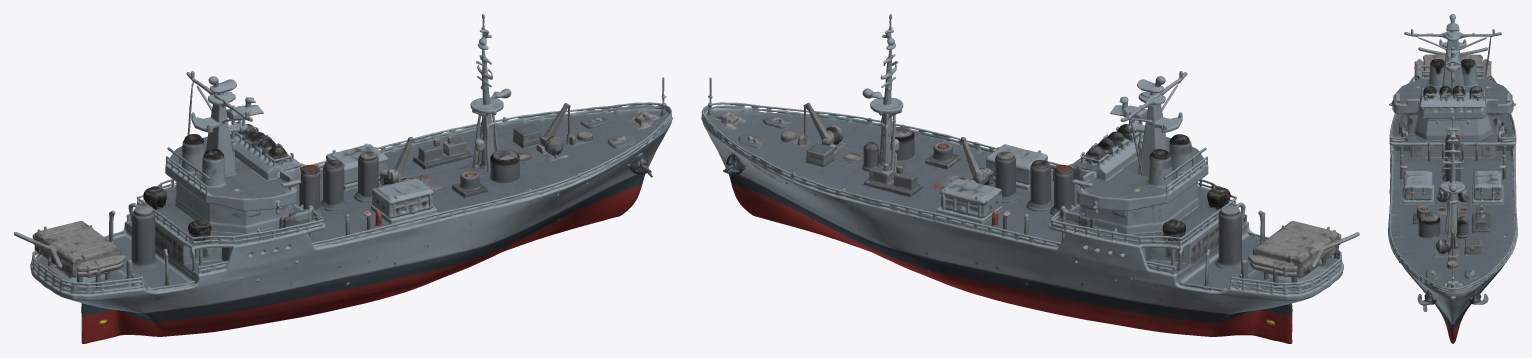
Rendered from tripo_convert_67975a71-0bf0-47b6-b650-b8f0f45bd61b.fbx.
3 renders of one model, left to right at view 1: azimuth 30°, elevation 25°; view 2: azimuth 150°, elevation 25°; view 3: azimuth 270°, elevation 25°, orthographic. The views are drawn at different scales.
Parts seen in each view (by area): view 1: tripo_node_67975a71; view 2: tripo_node_67975a71; view 3: tripo_node_67975a71.
Boxes of the visible parts, box(x1,y1,x2,y2) form: tripo_node_67975a71: box(14, 14, 672, 343); tripo_node_67975a71: box(701, 14, 1359, 343); tripo_node_67975a71: box(1388, 14, 1517, 343).
Size of the model in its own units: 1 by 0.3607 by 0.2351.
